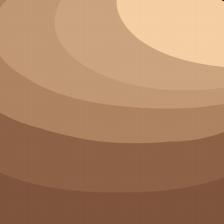brown: (2, 114, 224, 193), (0, 175, 224, 224)
